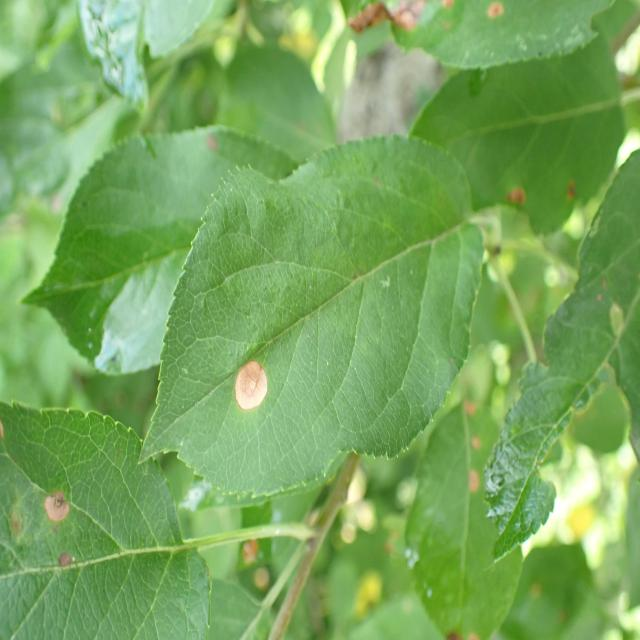frog-eye-leaf-spot: (140, 133, 488, 501), (0, 398, 213, 640), (340, 0, 618, 70)
